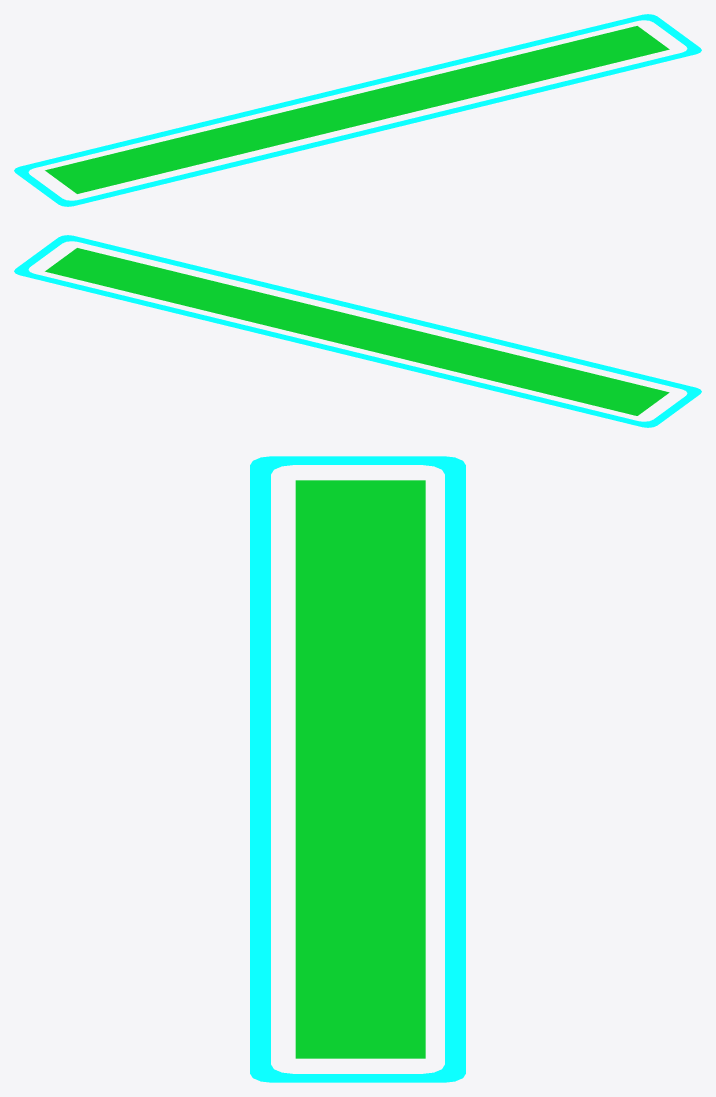
The model's file is UI_bar1-green.glb.
3 views of the same model, one above another, from view 1: azimuth 30°, elevation 25°; view 2: azimuth 150°, elevation 25°; view 3: azimuth 270°, elevation 25° (orthographic). The views are drawn at different scales.
Visible parts, largest first — view 1: bar1-green; view 2: bar1-green; view 3: bar1-green.
Boxes of the visible parts, x1,y1,x2,y2 form: bar1-green: [14, 14, 701, 206]; bar1-green: [14, 235, 701, 427]; bar1-green: [250, 456, 465, 1082].
Size of the model in its own units: 2 by 0 by 0.2916.
